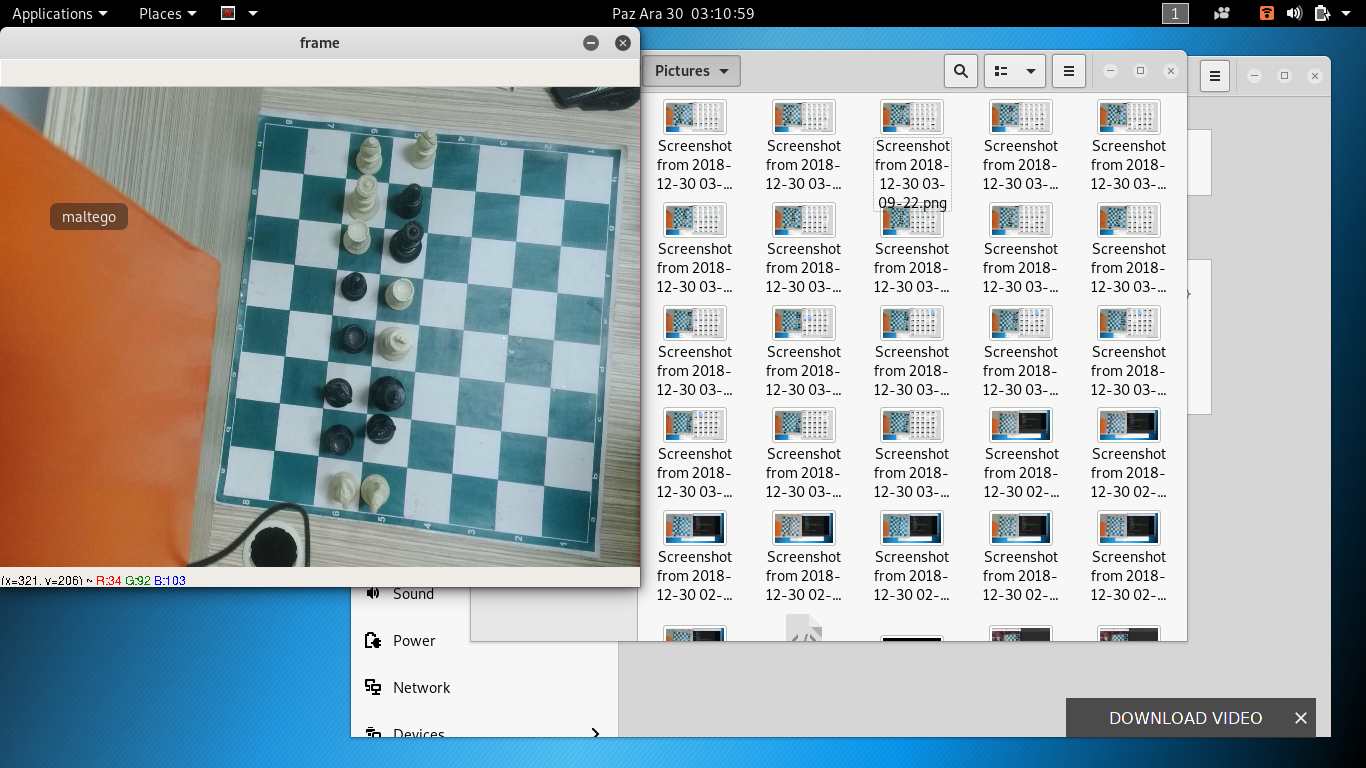BeyazAt: (361, 474, 391, 515), (330, 469, 359, 508)
BeyazFil: (353, 137, 386, 175), (407, 131, 438, 167)
BeyazKale: (384, 278, 419, 312), (343, 221, 372, 253)
BeyazSah: (377, 326, 414, 361)
BeyazVezir: (347, 175, 380, 218)
SiyahAt: (363, 415, 396, 444), (322, 378, 353, 407)
SiyahFil: (391, 183, 424, 217), (341, 271, 368, 300)
SiyahKale: (322, 423, 356, 457), (340, 323, 369, 354)
SiyahSah: (367, 372, 406, 412)
SiyahVezir: (390, 221, 423, 263)
